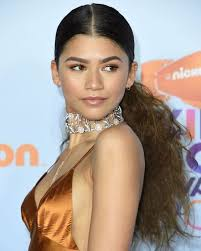person: (51, 3, 139, 122)
